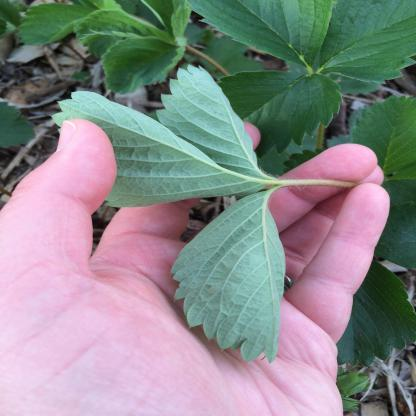strawberry leaf: (51, 68, 271, 199), (173, 188, 302, 367), (151, 60, 292, 183)
